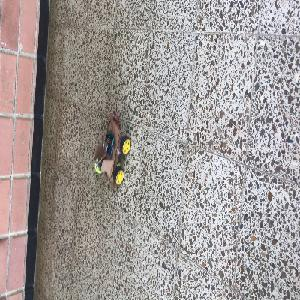Ball: (94, 163, 100, 172)
Robot: (95, 117, 131, 188)
